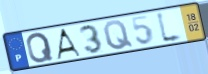3: (79, 23, 104, 55)
5: (130, 14, 156, 46)
A: (55, 27, 83, 61)
L: (155, 9, 186, 46)
Q: (102, 19, 135, 51), (26, 31, 56, 65)
